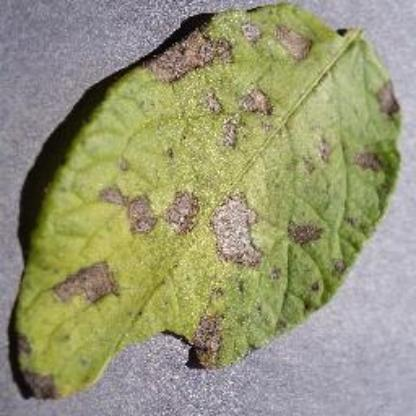Early-Blight: (9, 3, 403, 399)
